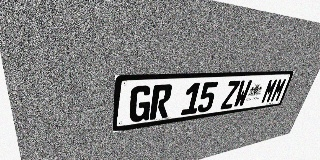1: (181, 82, 203, 115)
5: (197, 82, 218, 113)
G: (128, 85, 153, 123)
M: (260, 78, 279, 104), (270, 78, 288, 102)
R: (149, 84, 173, 120)
W: (232, 80, 252, 108)
Z: (220, 80, 241, 110)
